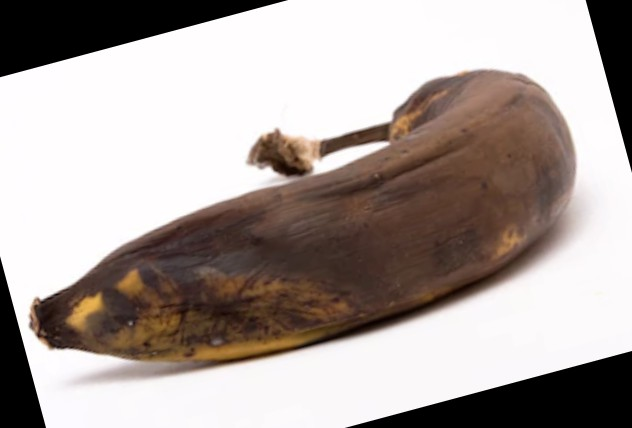rotten_banana: (31, 71, 577, 361)
